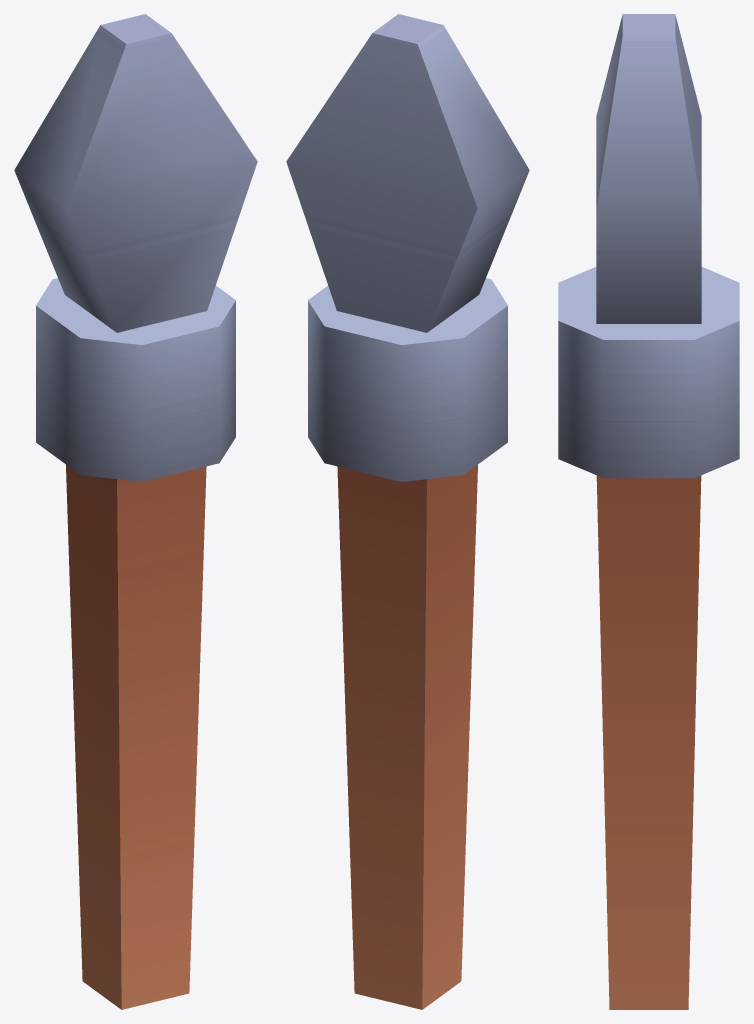
The model's file is weapon-spear.glb.
3 renders of one model, left to right at view 1: azimuth 30°, elevation 25°; view 2: azimuth 150°, elevation 25°; view 3: azimuth 270°, elevation 25°, orthographic.
Visible parts, largest first — view 1: weapon-spear; view 2: weapon-spear; view 3: weapon-spear.
Boxes of the visible parts, left/top/right/bottom form: weapon-spear: left=14, top=14, right=257, bottom=1009; weapon-spear: left=286, top=14, right=529, bottom=1009; weapon-spear: left=558, top=14, right=739, bottom=1009.
Size of the model in its own units: 0.1463 by 0.7 by 0.1189.
1 material, 1 textured.
